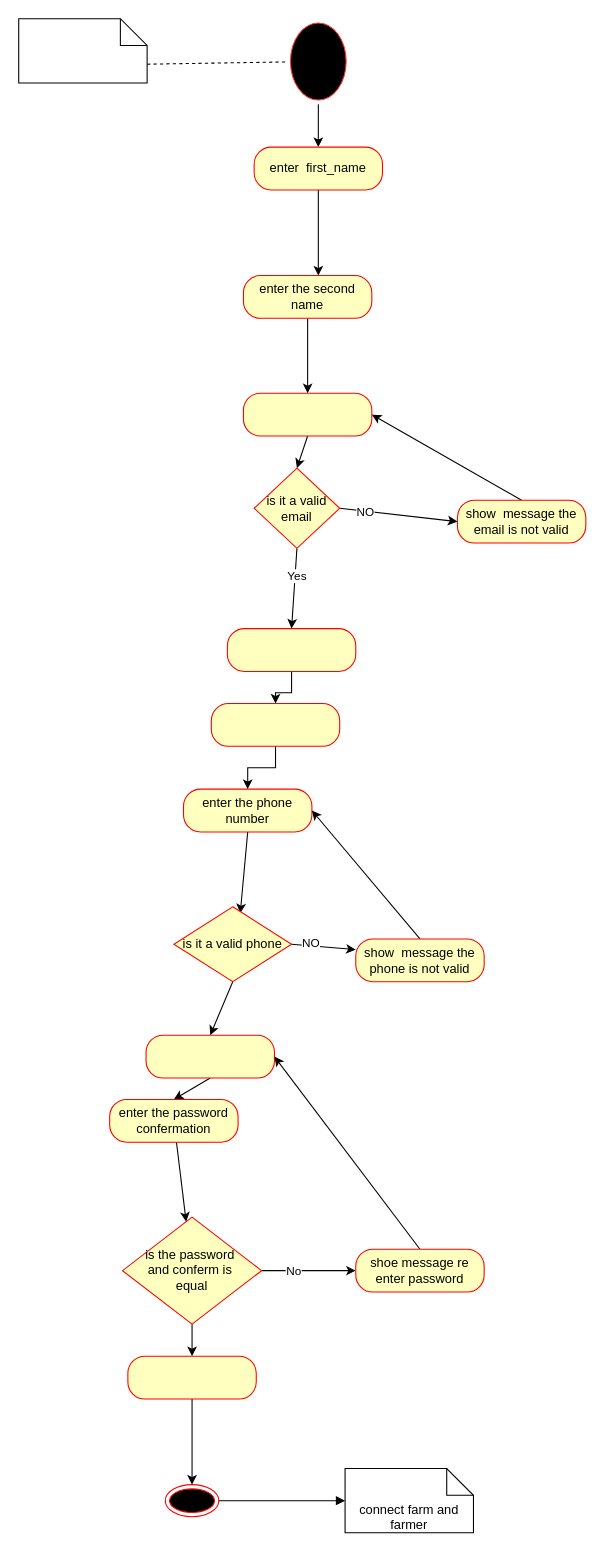
Image size: 605x1553. Some labels were removed from this diagram. Each missing label, with the centre of its shape:
"enter the birthday" belongs at pixel 275 724.
"enter the email" belongs at pixel 307 414.
"enter the job type" belongs at pixel 291 649.
"enter the password" belongs at pixel 209 1056.
"login" belongs at pixel 82 50.
"press save" belongs at pixel 191 1377.
